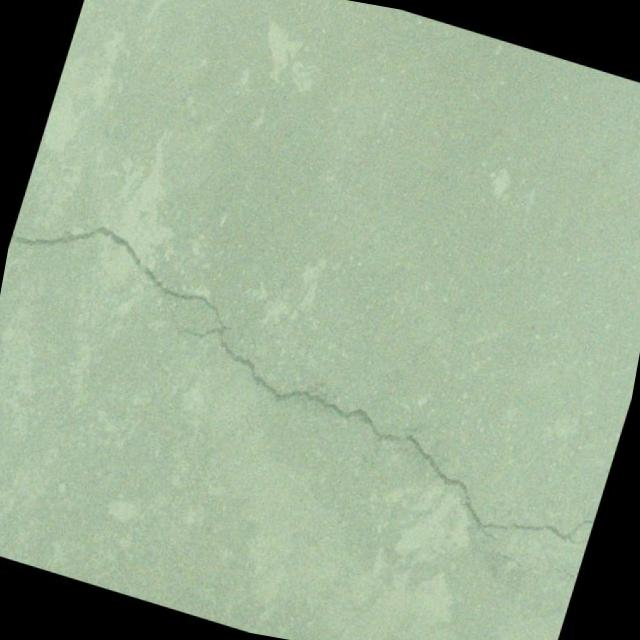crack: (0, 200, 640, 571), (493, 550, 524, 568), (554, 567, 574, 577)
